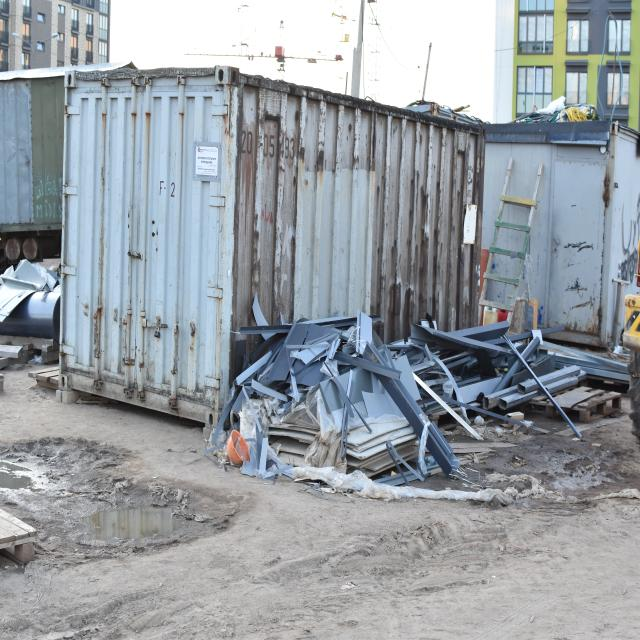entulho: (226, 290, 463, 482), (405, 314, 631, 432), (0, 256, 61, 341)
